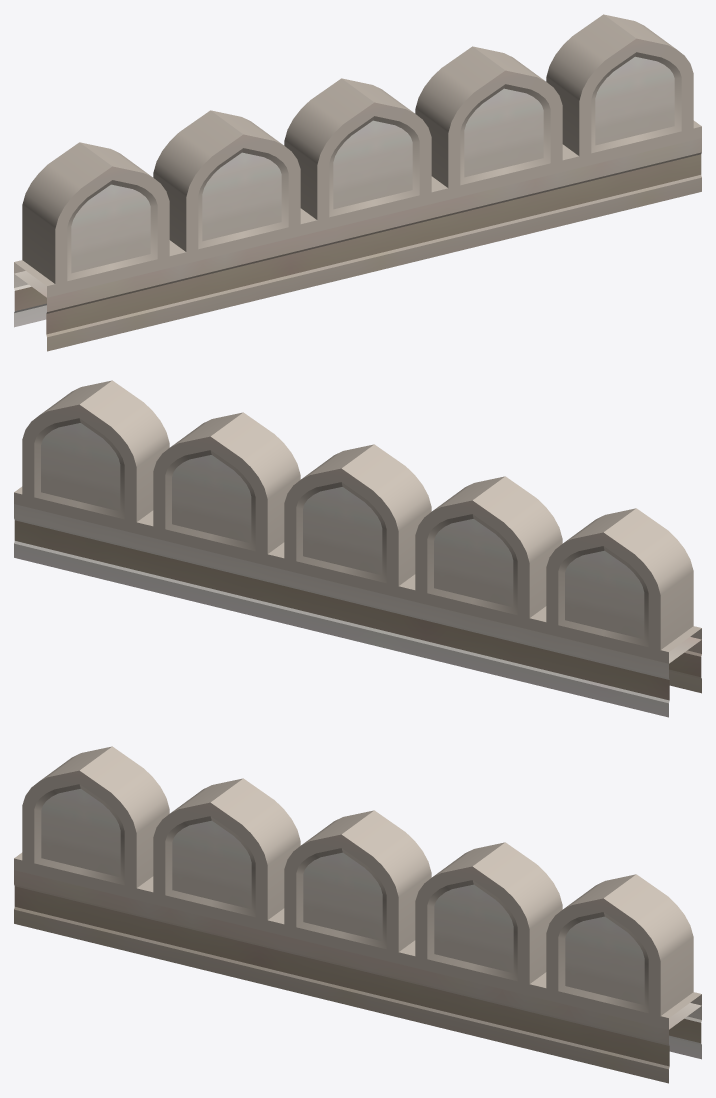
The model's file is M_WallRidge_01.fbx.
3 views of the same model, one above another, from view 1: azimuth 30°, elevation 25°; view 2: azimuth 150°, elevation 25°; view 3: azimuth 330°, elevation 25° (orthographic).
Parts seen in each view (by area): view 1: M_WallRidge_01; view 2: M_WallRidge_01; view 3: M_WallRidge_01.
Part boxes in pixels (left/top/right/bottom): M_WallRidge_01: left=14, top=14, right=701, bottom=351; M_WallRidge_01: left=14, top=380, right=701, bottom=717; M_WallRidge_01: left=14, top=746, right=701, bottom=1083.
Bounding box in the file's own units: 568 × 140 × 49.6.
Materials: 1 (1 with a texture image).
